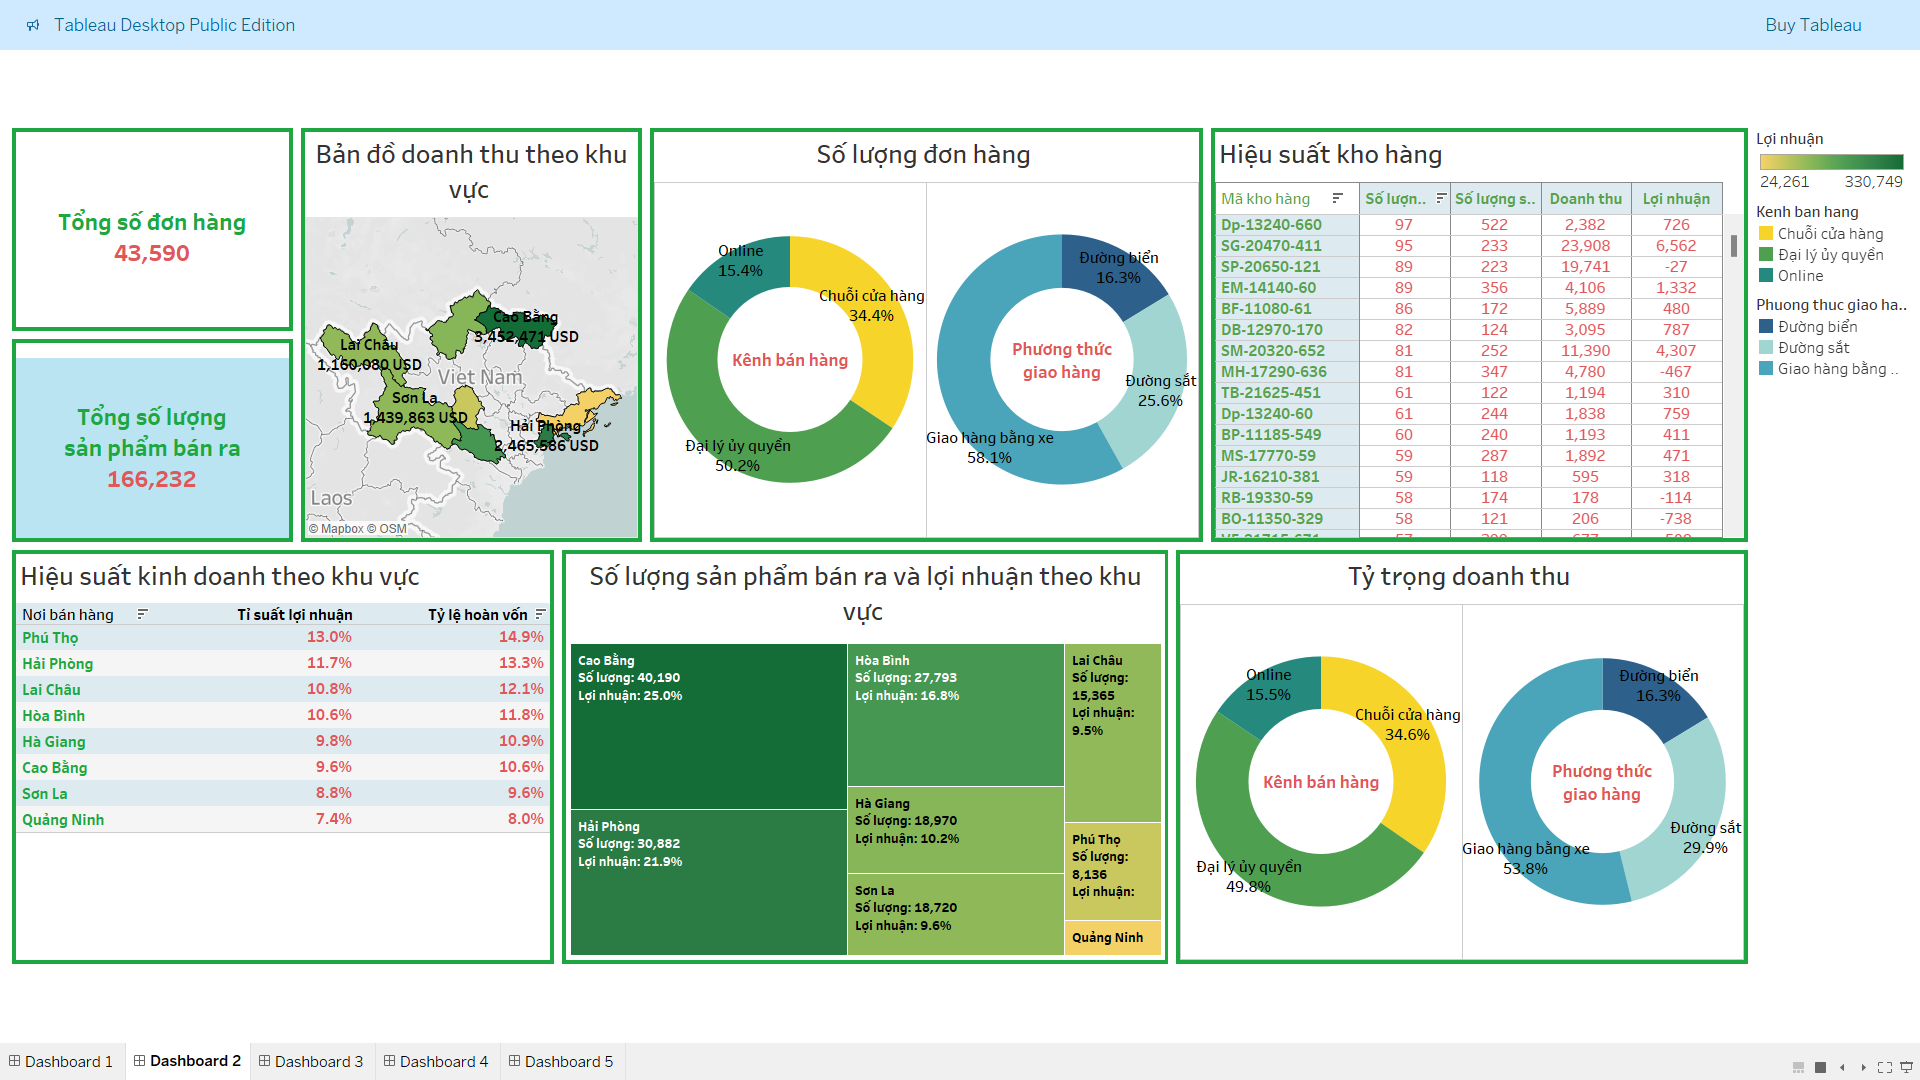

Layout of this report page (visuals, bound fields, positions):
{"tool":"tableau","page":{"name":"Dashboard 2","canvas":[1000,1000],"units":"permille","ordinal":1},"visuals":[{"type":"worksheet","title":"Tổng số đơn hàng","mark":"Automatic","box":[4.7,10.2,149,244.9]},{"type":"worksheet","title":"DB 2: Bản đồ doanh thu theo khu vực ","mark":"Multipolygon","box":[153.6,10.2,179.5,489.8]},{"type":"worksheet","title":"DB 2: số lượng đơn hàng ","mark":"Pie","cols":["Calculation_1271704007123505159","Calculation_1271704007123505159","Calculation_1271704007120887813","Calculation_1271704007120887813"],"box":[333.1,10.2,288.9,489.8]},{"type":"worksheet","title":"DB 2: Mã kho hàng","mark":"Automatic","rows":["Ma Kho hang"],"box":[622,10.2,280.3,489.8]},{"type":"legend","title":"DB 2: Bản đồ doanh thu theo khu vực ","param":"[federated.1sq9p5i18wjn6t1e2qz7n0ca84ti].[sum:Loi nhuan:qk]","box":[902.3,10.2,93,93.5]},{"type":"legend","title":"DB 2: Tỷ trọng doanh thu","param":"[federated.1sq9p5i18wjn6t1e2qz7n0ca84ti].[none:Kenh ban hang:nk]","box":[902.3,103.7,93,119.1]},{"type":"legend","title":"DB 2: Tỷ trọng doanh thu","param":"[federated.1sq9p5i18wjn6t1e2qz7n0ca84ti].[none:Phuong thuc giao hang:nk]","box":[902.3,222.8,93,119.1]},{"type":"worksheet","title":"Tổng số lượng sản phẩm bán ra","mark":"Automatic","box":[4.7,255.1,149,244.9]},{"type":"worksheet","title":"DB 2: Hiệu suất KD theo khu vực  ","mark":"Automatic","rows":["Noi ban hang"],"box":[4.7,500,283,489.8]},{"type":"worksheet","title":"DB 2: Số lượng đơn hàng","mark":"Automatic","box":[287.6,500,316.4,489.8]},{"type":"worksheet","title":"DB 2: Tỷ trọng doanh thu","mark":"Pie","cols":["Calculation_1221882935182942211","Calculation_1221882935182942211","Calculation_1271704007108337667","Calculation_1271704007108337667"],"box":[604.1,500,298.3,489.8]}]}

Visuals, with their boxes on the dashboard's canvas, which has no fixed pixel size, in thousandths of its width and height (x1, y1, x2, y2). These are canvas units, not pixel positions in the 1920x1080 screenshot, which may show the page scaled, cropped or inside an application window:
"Tổng số đơn hàng" worksheet: bbox=(5, 10, 154, 255)
"DB 2: Bản đồ doanh thu theo khu vực " worksheet (Multipolygon marks): bbox=(154, 10, 333, 500)
"DB 2: số lượng đơn hàng " worksheet (Pie marks): bbox=(333, 10, 622, 500)
"DB 2: Mã kho hàng" worksheet: bbox=(622, 10, 902, 500)
"DB 2: Bản đồ doanh thu theo khu vực " legend: bbox=(902, 10, 995, 104)
"DB 2: Tỷ trọng doanh thu" legend: bbox=(902, 104, 995, 223)
"DB 2: Tỷ trọng doanh thu" legend: bbox=(902, 223, 995, 342)
"Tổng số lượng sản phẩm bán ra" worksheet: bbox=(5, 255, 154, 500)
"DB 2: Hiệu suất KD theo khu vực  " worksheet: bbox=(5, 500, 288, 990)
"DB 2: Số lượng đơn hàng" worksheet: bbox=(288, 500, 604, 990)
"DB 2: Tỷ trọng doanh thu" worksheet (Pie marks): bbox=(604, 500, 902, 990)
